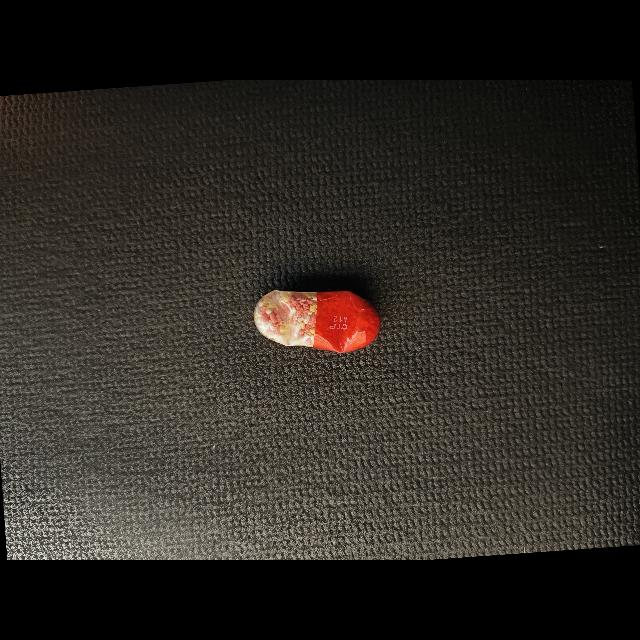Defective Capsule: (254, 290, 381, 353)
